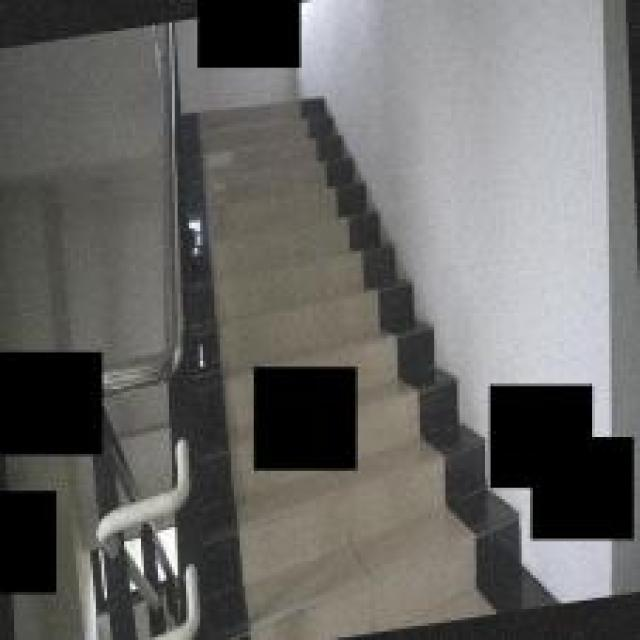upstair: (194, 121, 338, 333)
